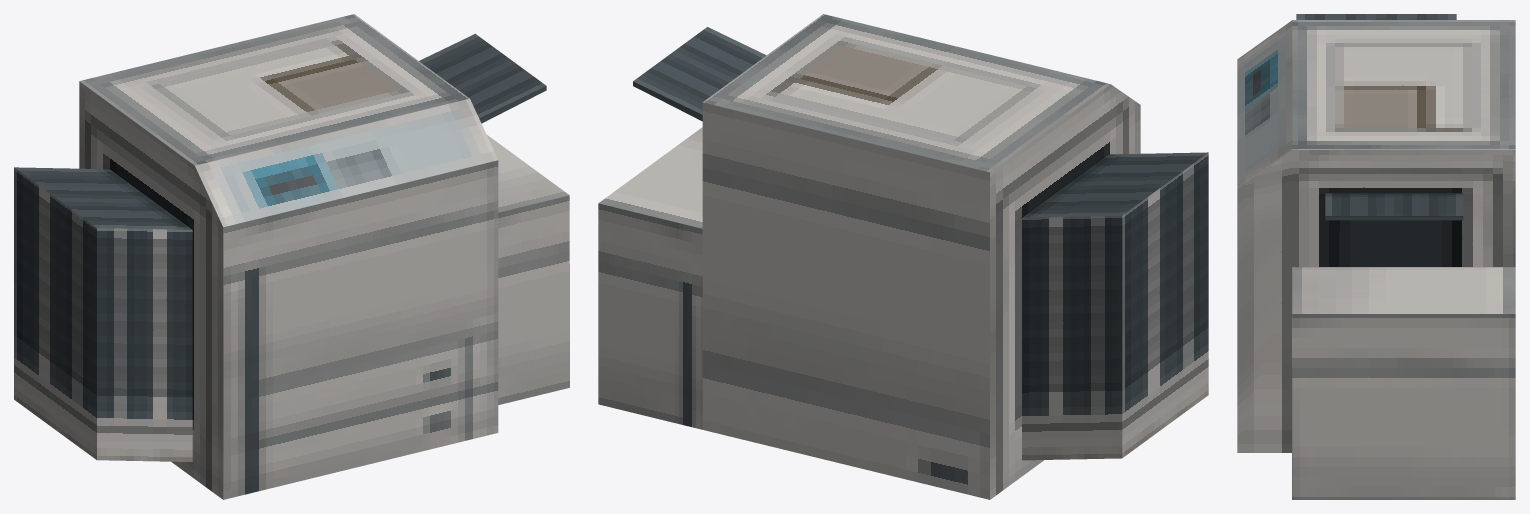
The model's file is copier.fbx.
3 views of the same model, side by side, from view 1: azimuth 30°, elevation 25°; view 2: azimuth 150°, elevation 25°; view 3: azimuth 270°, elevation 25° (orthographic). The views are drawn at different scales.
Parts seen in each view (by area): view 1: copier; view 2: copier; view 3: copier.
Boxes of the visible parts, x1,y1,x2,y2 form: copier: [14, 14, 569, 499]; copier: [598, 14, 1208, 499]; copier: [1237, 14, 1515, 499].
Bounding box in the file's own units: 4.72 × 3 × 2.5.
